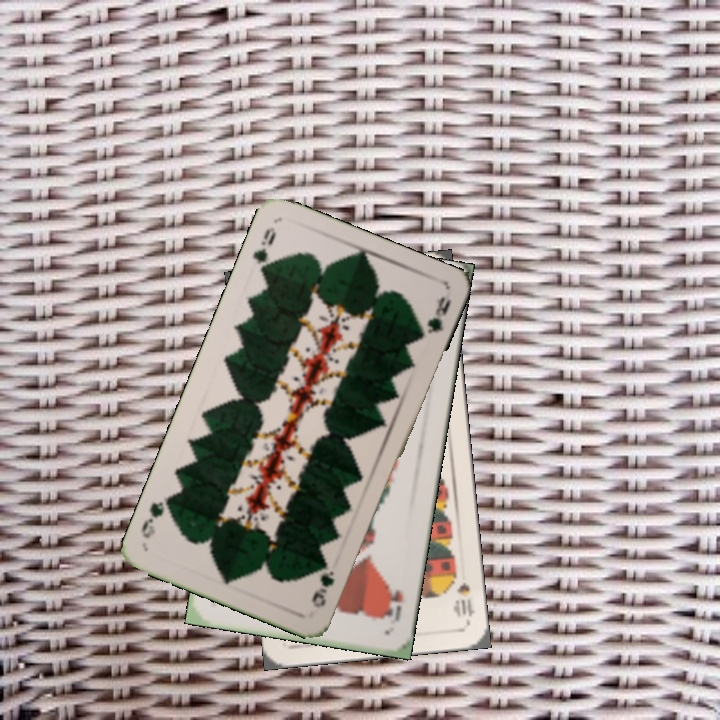G9: (248, 223, 279, 280), (307, 566, 337, 611)
HO: (381, 586, 406, 627)
S10: (451, 577, 477, 624)
